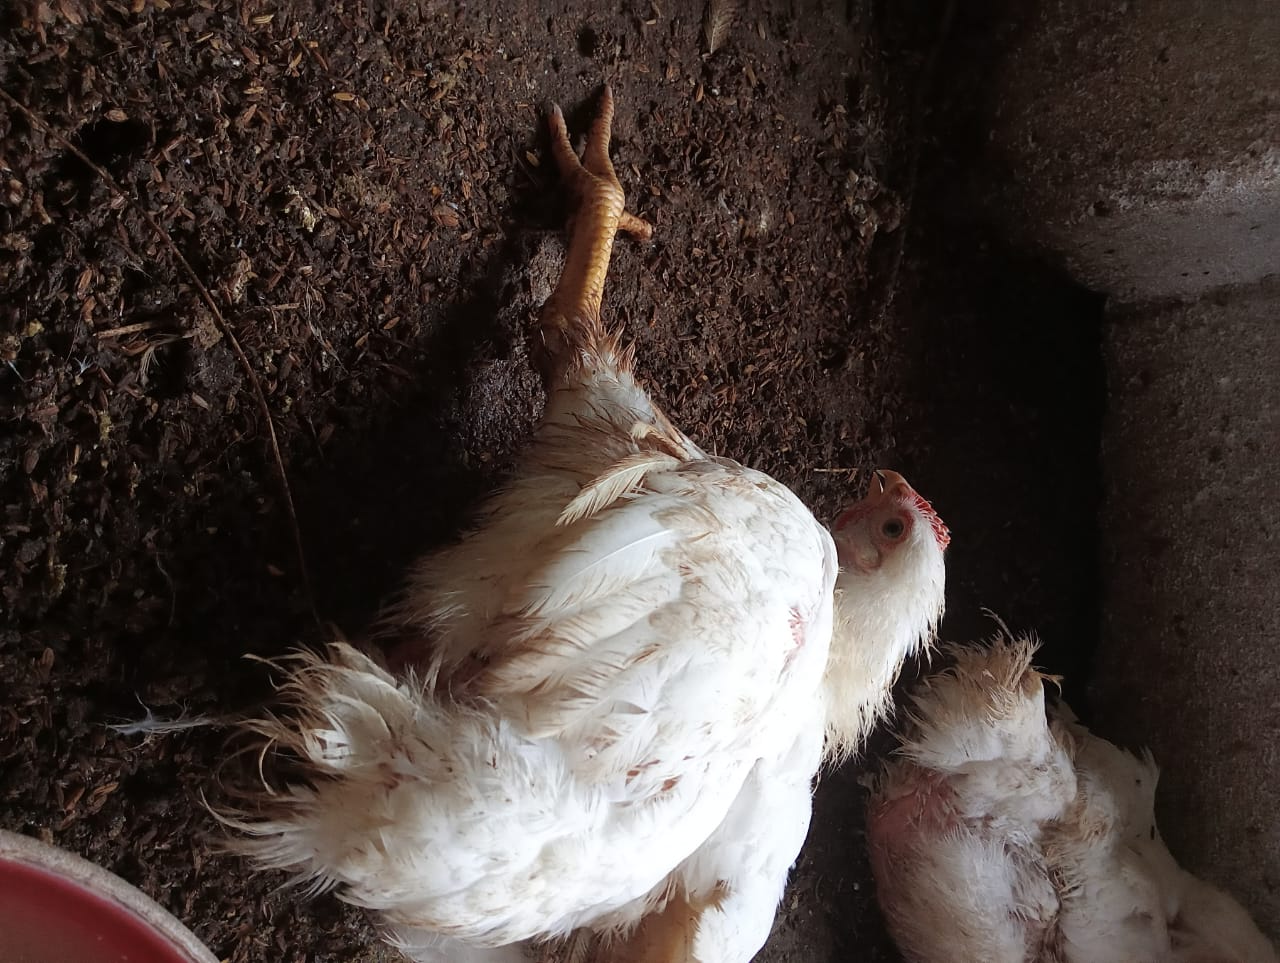Unhealthy: (219, 74, 938, 963)
